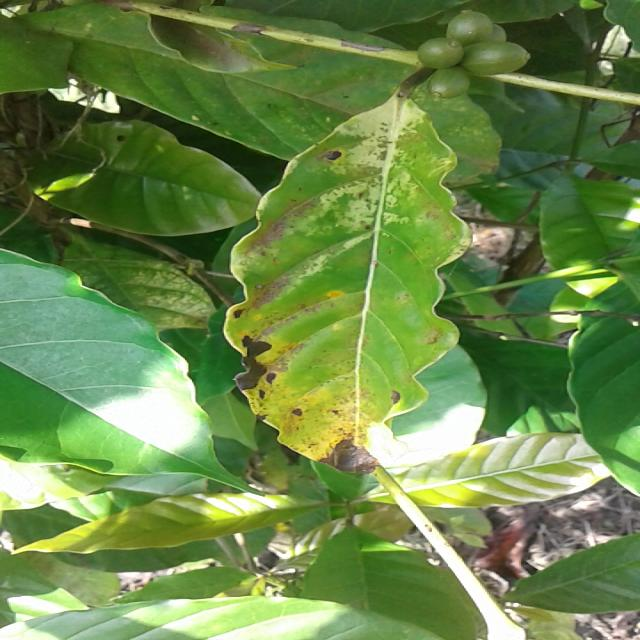Enfermedad-Roya: (224, 94, 470, 472)
